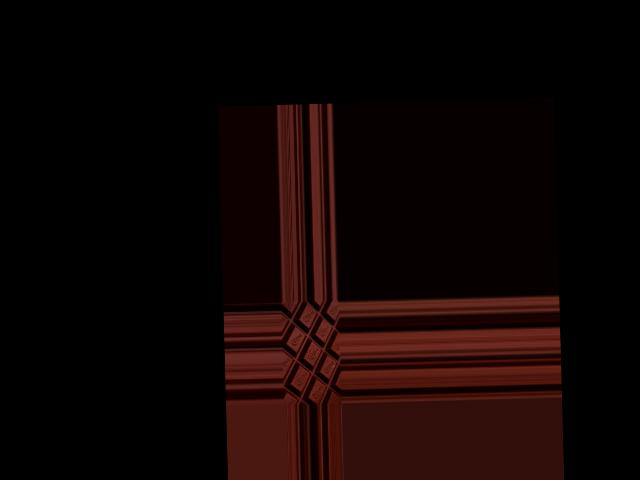chocolate: (280, 303, 339, 405)
